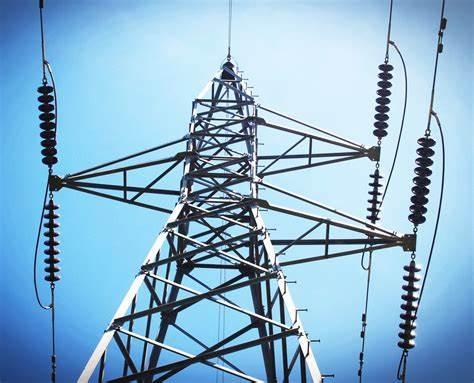power_tower: (39, 57, 430, 383)
